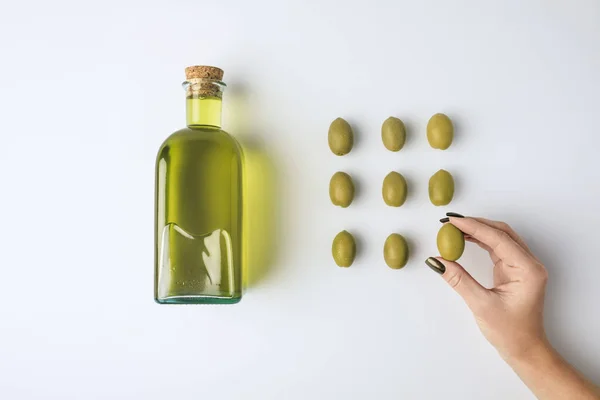glass_bottle: (143, 56, 259, 318)
